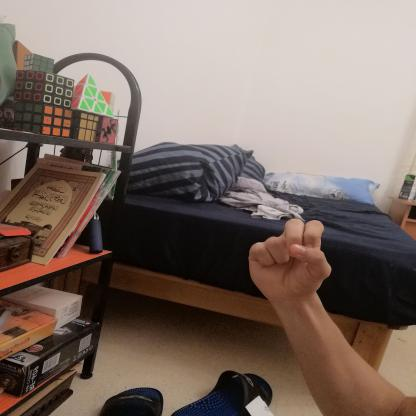QAAF: (230, 210, 346, 314)
